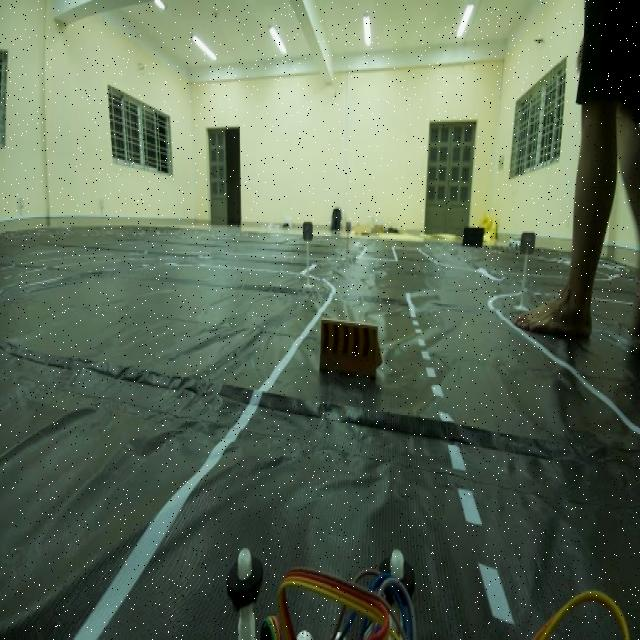roadblock: (310, 305, 392, 400)
